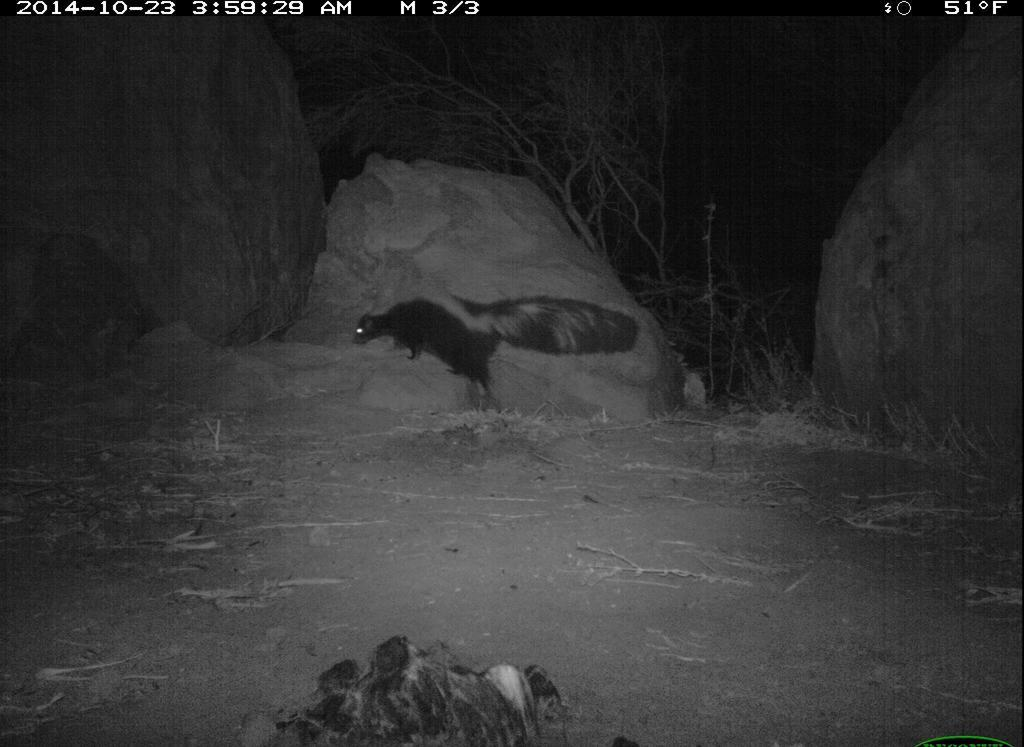skunk: (340, 283, 647, 419)
